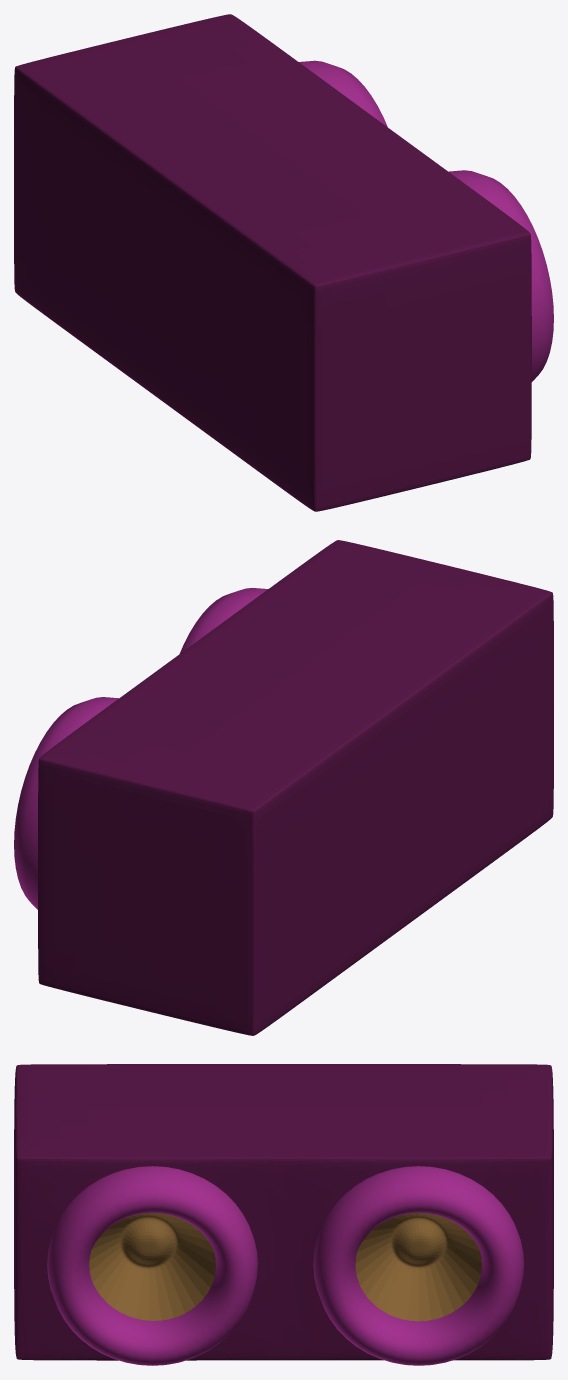
Rendered from Generator.fbx.
3 renders of one model, top to bottom at view 1: azimuth 30°, elevation 25°; view 2: azimuth 150°, elevation 25°; view 3: azimuth 270°, elevation 25°, orthographic. The views are drawn at different scales.
Parts seen in each view (by area): view 1: Cube.003, Torus.004, Torus.003; view 2: Cube.003, Torus.003, Torus.004; view 3: Cube.003, Torus.004, Torus.003.
Boxes of the visible parts, x1=… form: Cube.003: x1=14, y1=14, x2=531, y2=511; Torus.004: x1=449, y1=170, x2=553, y2=381; Torus.003: x1=299, y1=60, x2=387, y2=126; Cube.003: x1=38, y1=540, x2=553, y2=1035; Torus.003: x1=14, y1=697, x2=118, y2=909; Torus.004: x1=179, y1=588, x2=267, y2=653; Cube.003: x1=14, y1=1064, x2=553, y2=1360; Torus.004: x1=47, y1=1166, x2=257, y2=1365; Torus.003: x1=313, y1=1166, x2=524, y2=1365.
Bounding box in the file's own units: 102 × 84.02 × 200.
